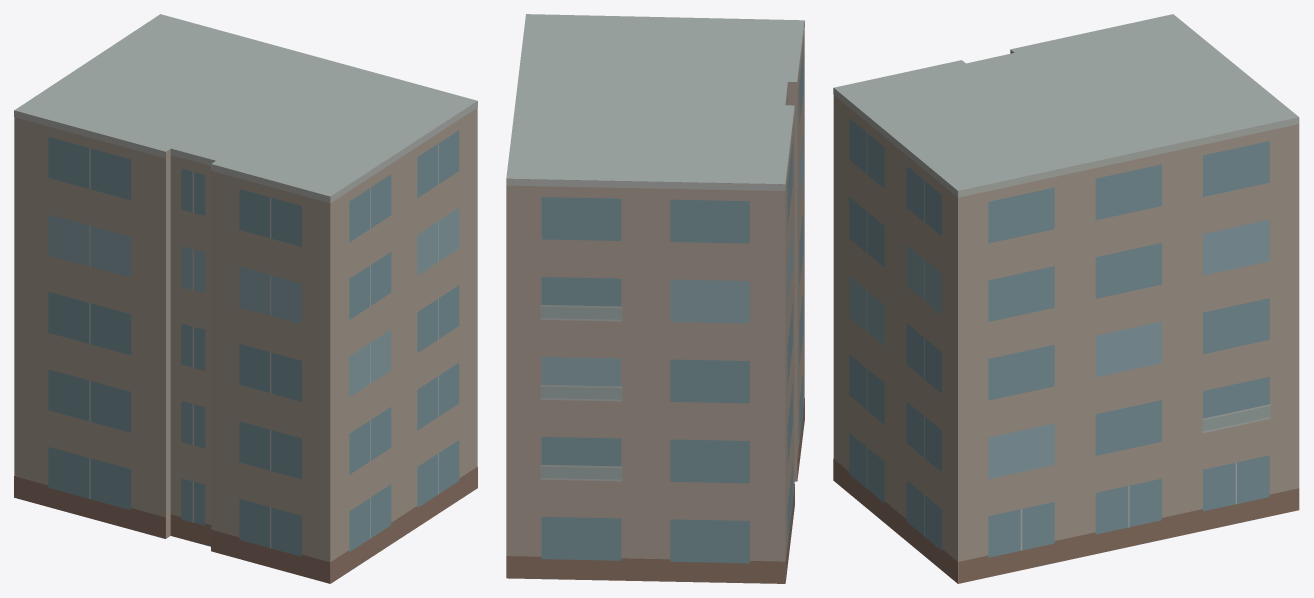
File: survey-upis-32839466.glb
The picture shows the model from 3 angles, left to right: view 1: azimuth 30°, elevation 25°; view 2: azimuth 150°, elevation 25°; view 3: azimuth 270°, elevation 25°; orthographic projection. The views are drawn at different scales.
Parts seen in each view (by area): view 1: survey-upis-32839466.tmp; view 2: survey-upis-32839466.tmp; view 3: survey-upis-32839466.tmp.
Boxes of the visible parts, box(x1,y1,x2,y2) form: survey-upis-32839466.tmp: box(14, 14, 477, 583); survey-upis-32839466.tmp: box(506, 14, 804, 583); survey-upis-32839466.tmp: box(833, 14, 1299, 583).
Size of the model in its own units: 13.63 by 14.1 by 15.16.
